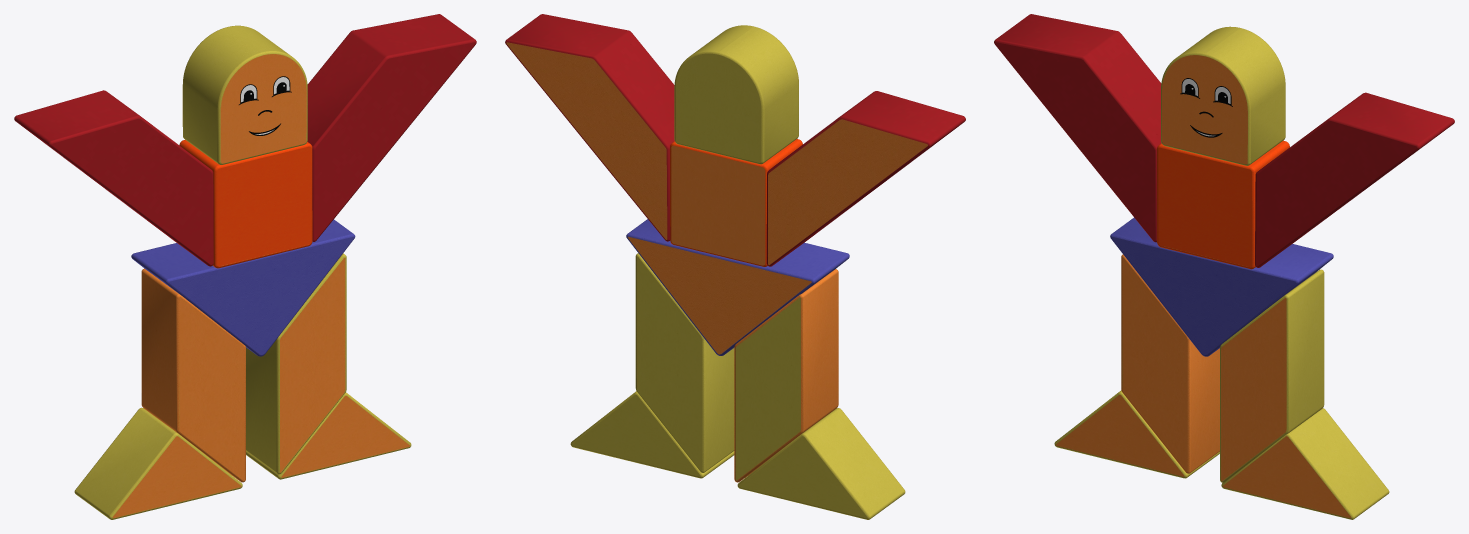
Rendered from unica_detal-matс4d-chel-opt.glb.
3 renders of one model, left to right at view 1: azimuth 30°, elevation 25°; view 2: azimuth 150°, elevation 25°; view 3: azimuth 330°, elevation 25°, orthographic.
Visible parts, largest first — view 1: trapecia.3, small-treug, romb.2, Fill (×2), romb.1, big-treug, kub.1; view 2: trapecia.3, small-treug, romb.2, Fill, romb.1, big-treug, kub.1; view 3: trapecia.3, small-treug, romb.1, Fill (×2), romb.2, big-treug, kub.1.
Part boxes in pixels (bbox=[...]): trapecia.3: bbox=[14, 14, 476, 266]; small-treug: bbox=[74, 392, 411, 519]; romb.2: bbox=[141, 268, 245, 482]; Fill (×2): bbox=[182, 25, 307, 164]; romb.1: bbox=[246, 253, 346, 474]; big-treug: bbox=[131, 219, 355, 356]; kub.1: bbox=[179, 140, 312, 268]; trapecia.3: bbox=[505, 14, 965, 266]; small-treug: bbox=[570, 391, 905, 519]; romb.2: bbox=[734, 269, 838, 482]; Fill: bbox=[674, 25, 798, 164]; romb.1: bbox=[635, 253, 734, 472]; big-treug: bbox=[626, 219, 849, 355]; kub.1: bbox=[670, 139, 802, 266]; trapecia.3: bbox=[994, 14, 1454, 267]; small-treug: bbox=[1054, 390, 1389, 519]; romb.1: bbox=[1220, 269, 1324, 482]; Fill (×2): bbox=[1161, 26, 1285, 165]; romb.2: bbox=[1121, 254, 1219, 473]; big-treug: bbox=[1110, 217, 1333, 356]; kub.1: bbox=[1157, 140, 1289, 269].
Bounding box in the file's own units: 104 × 101 × 15.95.
9 materials, 7 textured.
